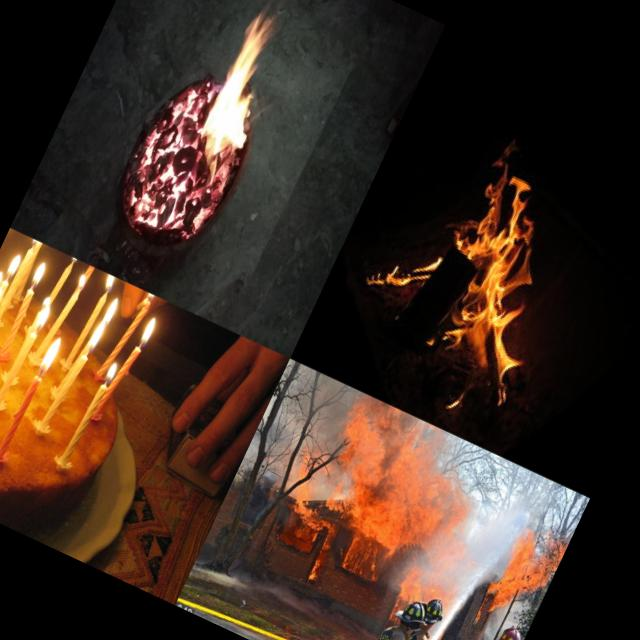fire: (339, 120, 605, 418), (253, 380, 515, 640), (151, 0, 304, 250), (100, 62, 219, 242), (473, 520, 569, 640), (78, 290, 127, 365), (34, 323, 70, 380), (0, 246, 24, 325), (27, 293, 58, 338), (134, 310, 163, 350), (99, 352, 125, 390), (28, 256, 51, 289), (70, 270, 93, 299), (99, 273, 118, 295), (24, 237, 44, 253), (142, 292, 158, 307), (66, 256, 79, 272)
